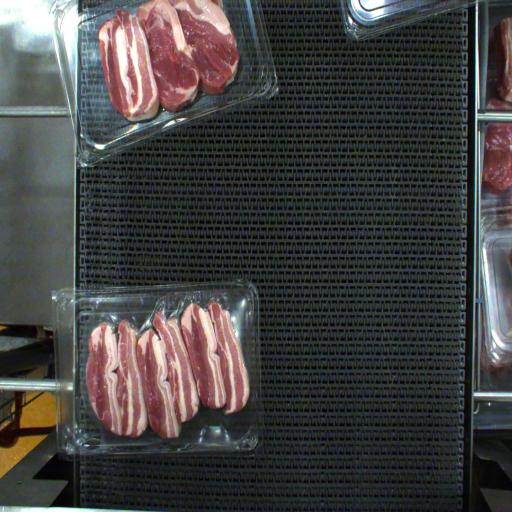unsealed: (76, 301, 250, 439)
